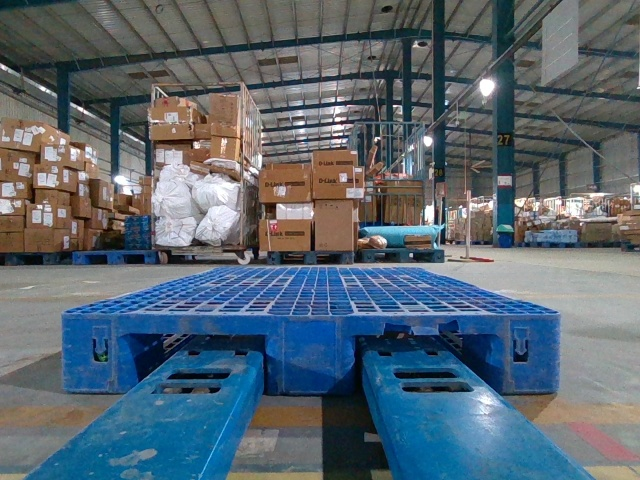block: (263, 308, 358, 393), (58, 311, 133, 395), (508, 311, 563, 394)
front: (62, 312, 559, 394)
hole pallet: (355, 321, 507, 400), (121, 329, 273, 396)
